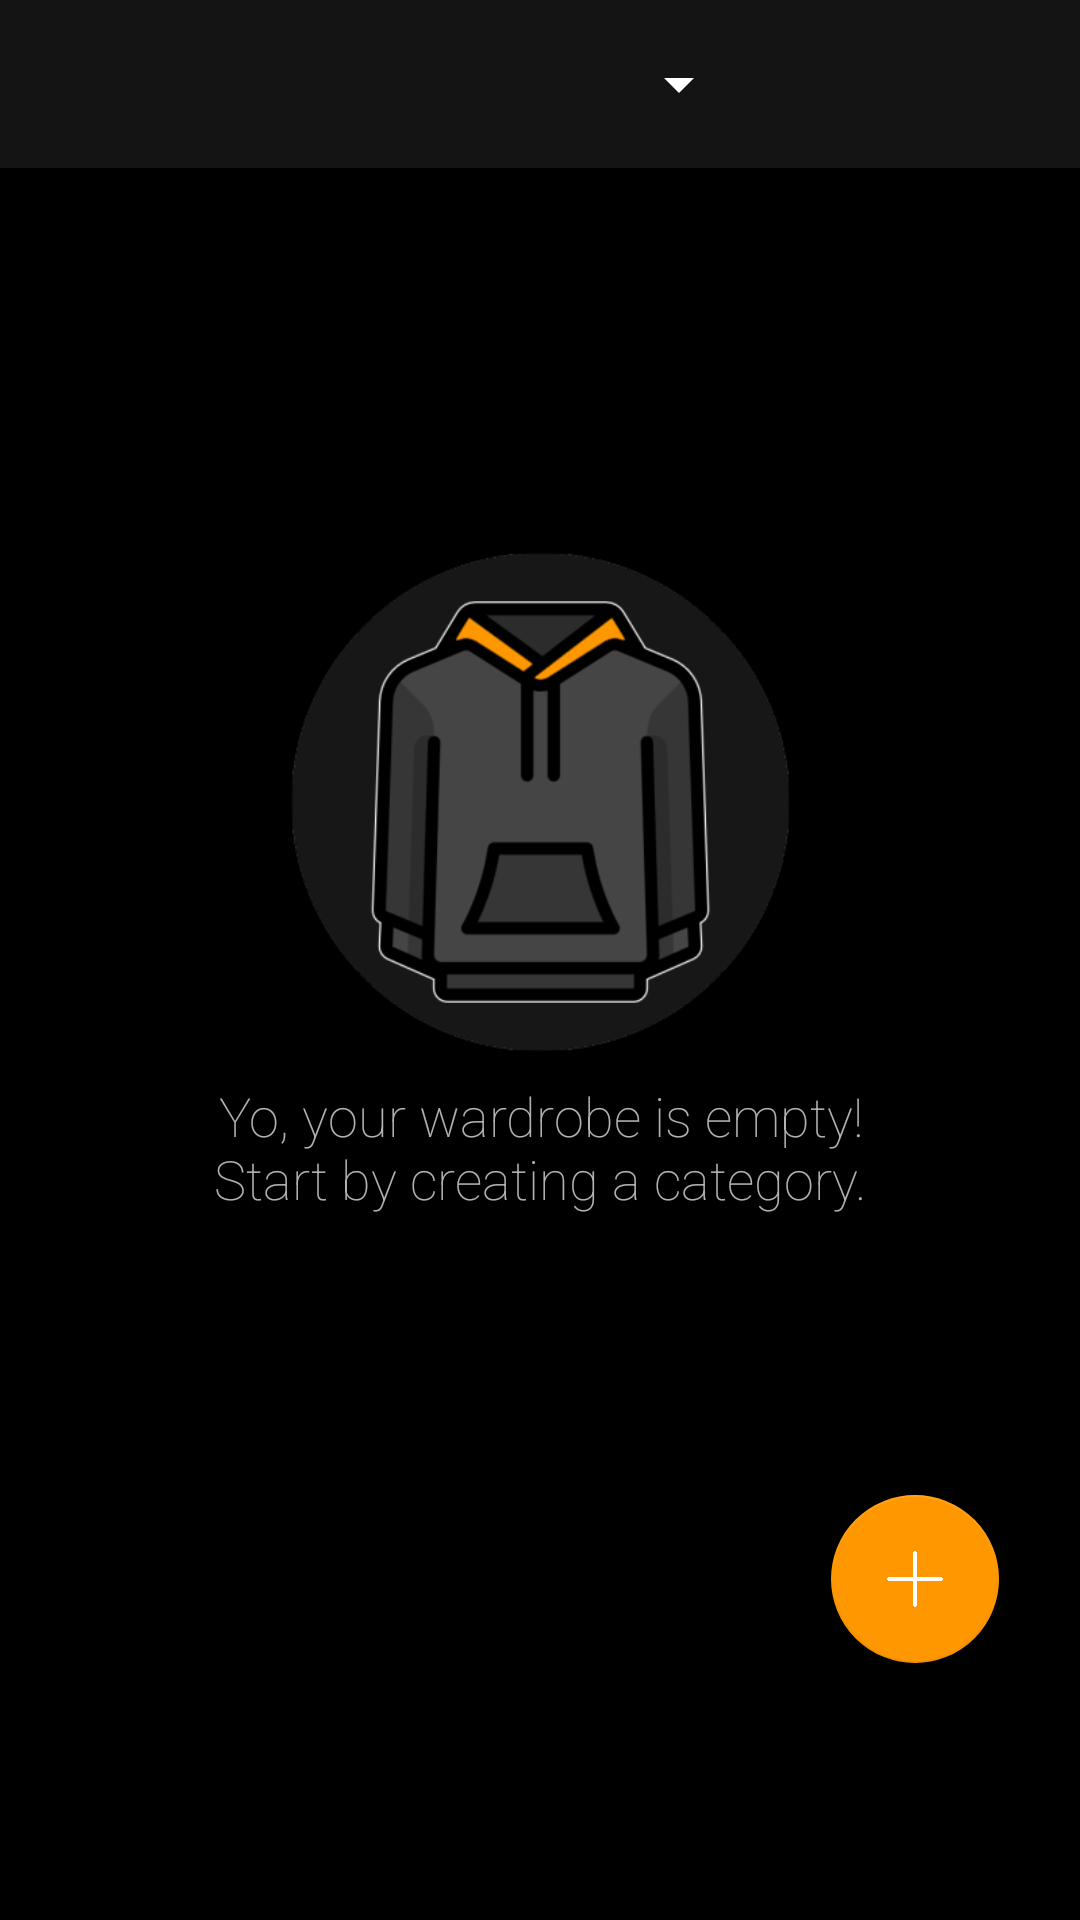

Icons on this 1080 × 1920 Android screen, each with its box as (x1, y1, x2, y2):
plus: (831, 1495, 999, 1663)
